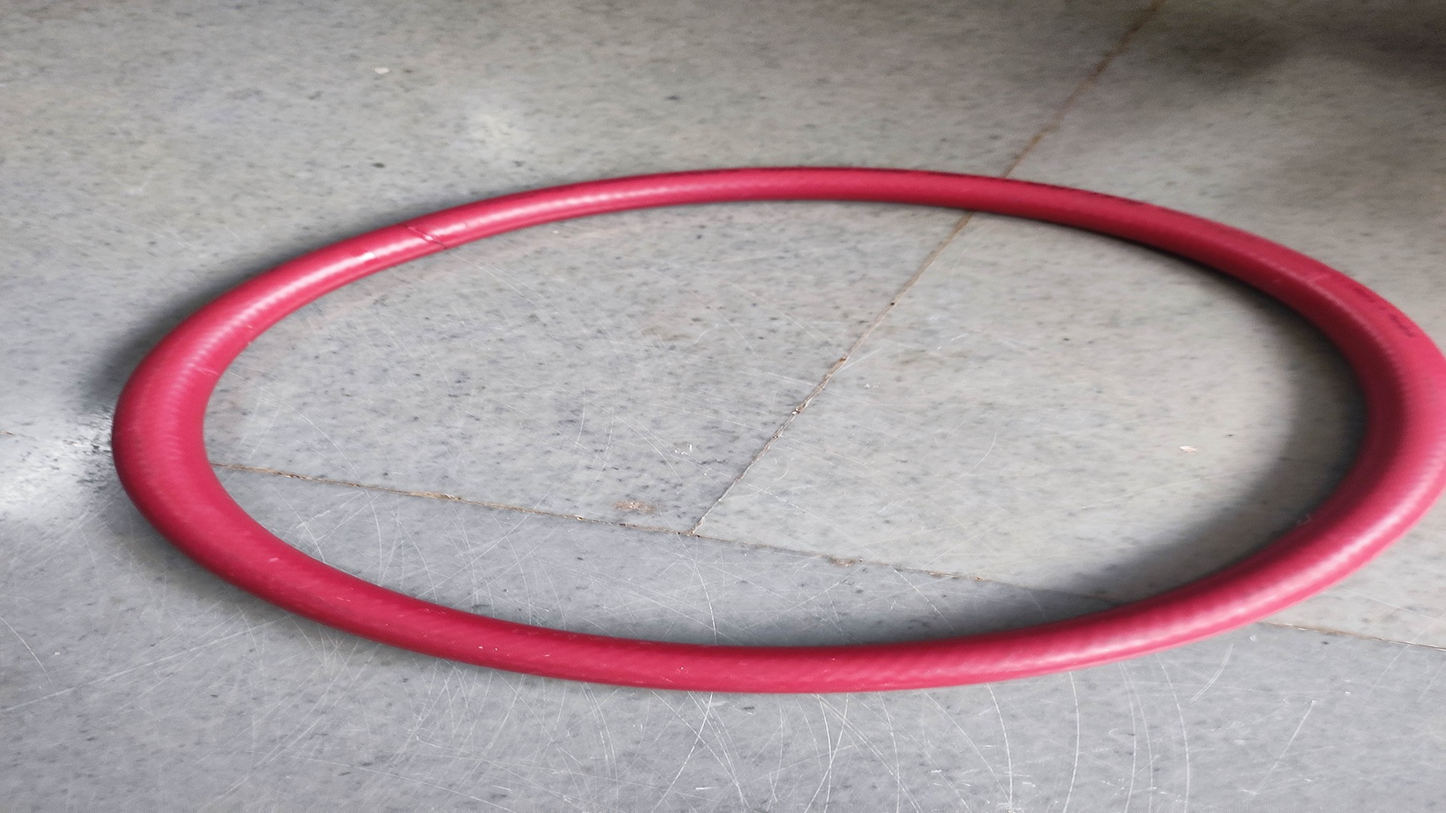Red ring: (118, 168, 1435, 691)
